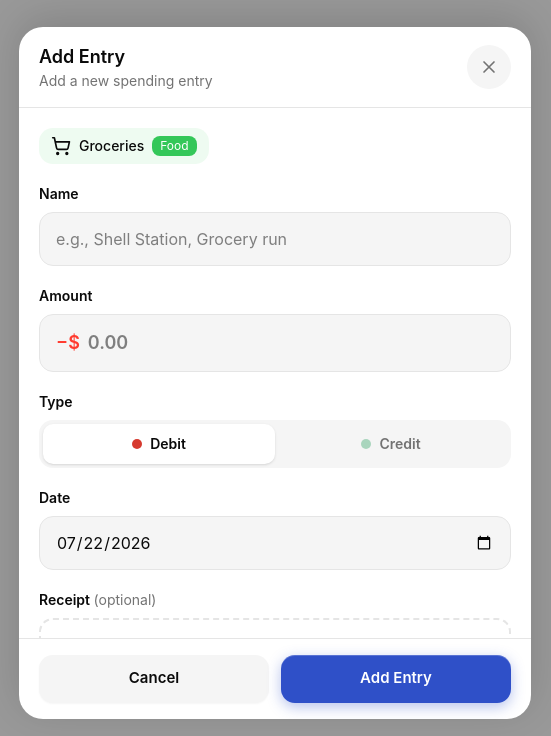
it: EntryEditPopin — direction control › toggling updates the sign preview immediately
What coordinates should you click on to do the following:
click the button "Credit"
I would click on:
 (391, 444)
Its box is [275,424,507,464].
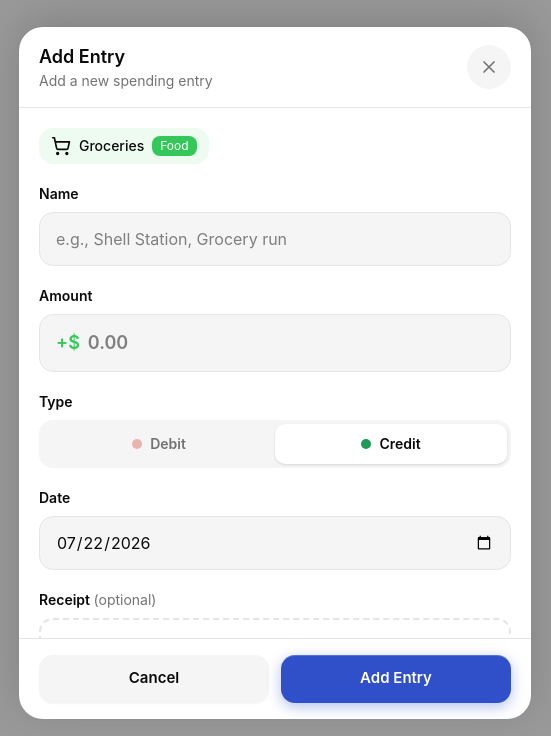
Expected: the text "−$" is gone
What coordinates should you click on to do the following:
click the button "Debit"
I would click on:
 (159, 444)
Its box is [43,424,275,464].
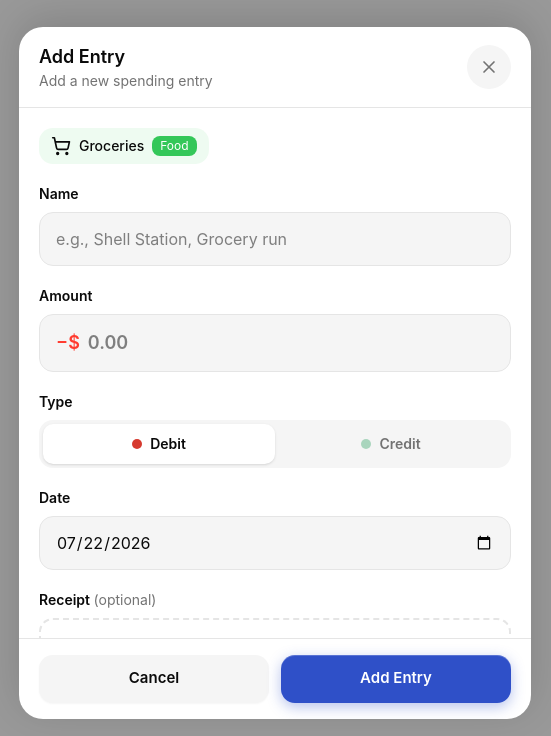
Expected: the text "+$" is gone
